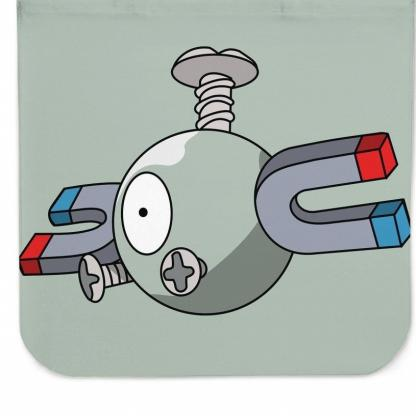Magnemite: (15, 37, 416, 335)
